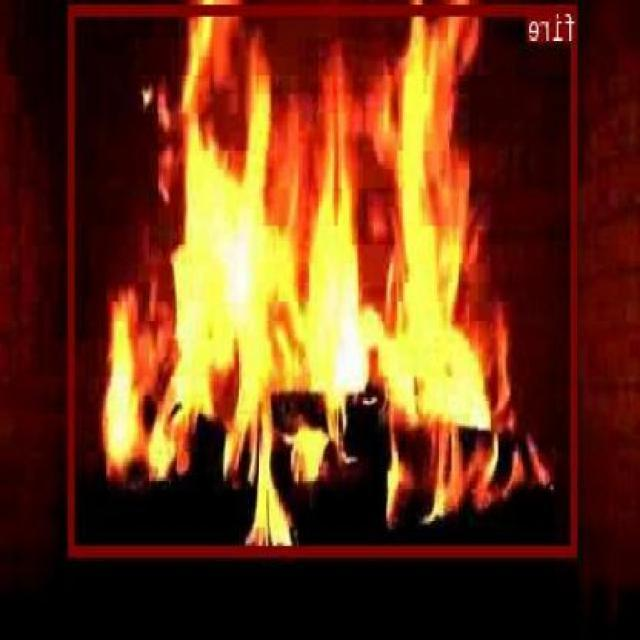Fire: (70, 2, 578, 555)
